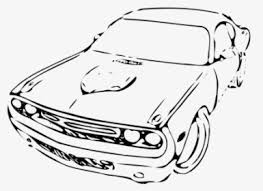car: (4, 2, 257, 188)
